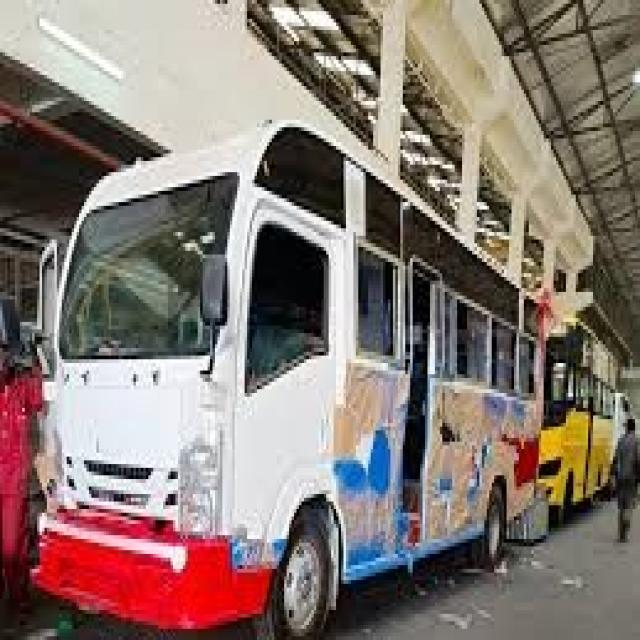bus: (10, 54, 553, 640)
